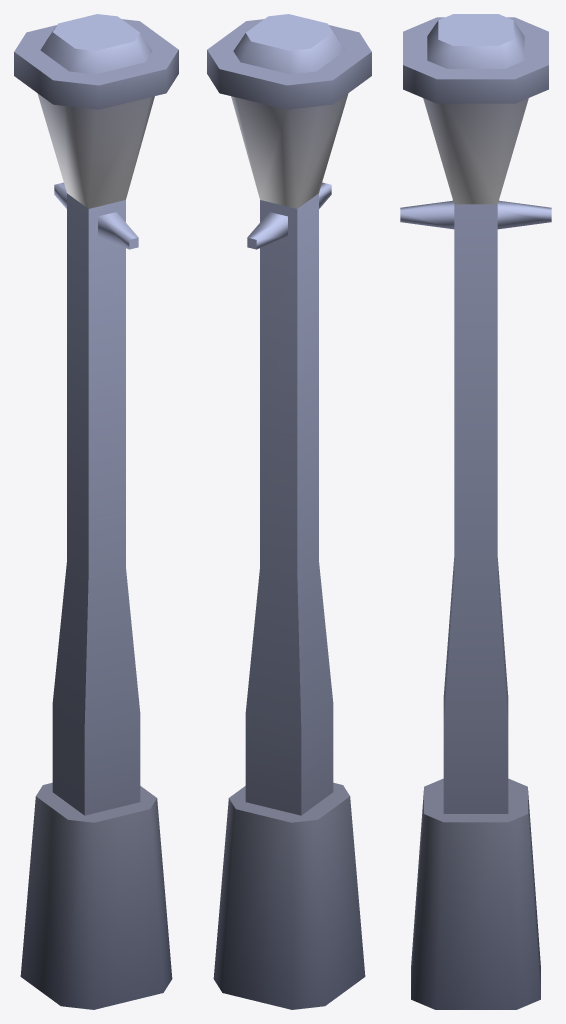
Rendered from lantern.glb.
3 views of the same model, side by side, from view 1: azimuth 30°, elevation 25°; view 2: azimuth 150°, elevation 25°; view 3: azimuth 270°, elevation 25° (orthographic).
Visible parts, largest first — view 1: lantern; view 2: lantern; view 3: lantern.
Boxes of the visible parts, x1,y1,x2,y2 form: lantern: (14,14,178,1009); lantern: (207,14,371,1009); lantern: (400,14,551,1009).
Size of the model in its own units: 0.2164 by 1.56 by 0.2243.
1 material, 1 textured.
